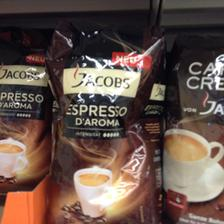Kaffee: (46, 15, 166, 223), (162, 29, 222, 222), (82, 156, 222, 220), (1, 28, 46, 200)
